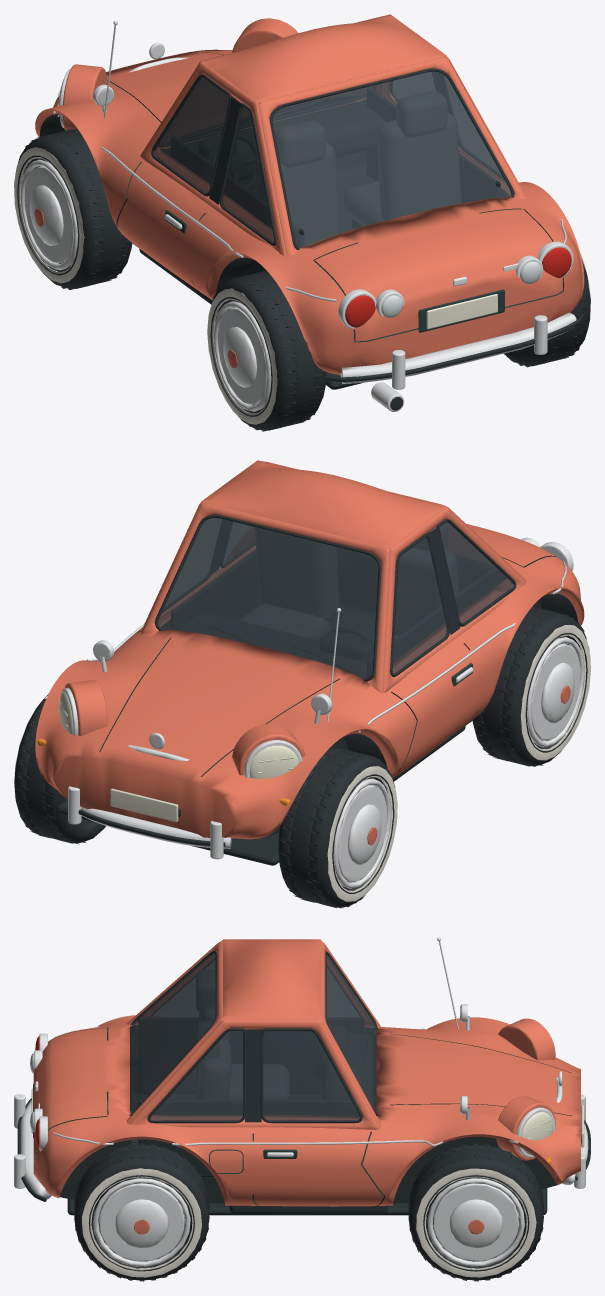
File: beetle_lod1.fbx
The picture shows the model from 3 angles, top to bottom: view 1: azimuth 30°, elevation 25°; view 2: azimuth 150°, elevation 25°; view 3: azimuth 270°, elevation 25°; orthographic projection. The views are drawn at different scales.
Visible parts, largest first — view 1: Body, Wheel_RL_Mesh, Wheel_FL_Mesh, Wheel_RR_Mesh; view 2: Body, Wheel_FL_Mesh, Wheel_RL_Mesh, Wheel_FR_Mesh; view 3: Body, Wheel_FR_Mesh, Wheel_RR_Mesh, Wheel_RL_Mesh.
Boxes of the visible parts, x1,y1,x2,y2 form: Body: (35,14,584,411); Wheel_RL_Mesh: (207,270,326,431); Wheel_FL_Mesh: (14,128,132,289); Wheel_RR_Mesh: (504,253,590,367); Body: (35,460,584,865); Wheel_FL_Mesh: (278,747,397,908); Wheel_RL_Mesh: (472,606,590,766); Wheel_FR_Mesh: (14,694,105,844); Body: (14,937,590,1215); Wheel_FR_Mesh: (408,1143,543,1281); Wheel_RR_Mesh: (74,1143,209,1281); Wheel_RL_Mesh: (130,1036,138,1092).
Size of the model in its own units: 197 by 170 by 342.
